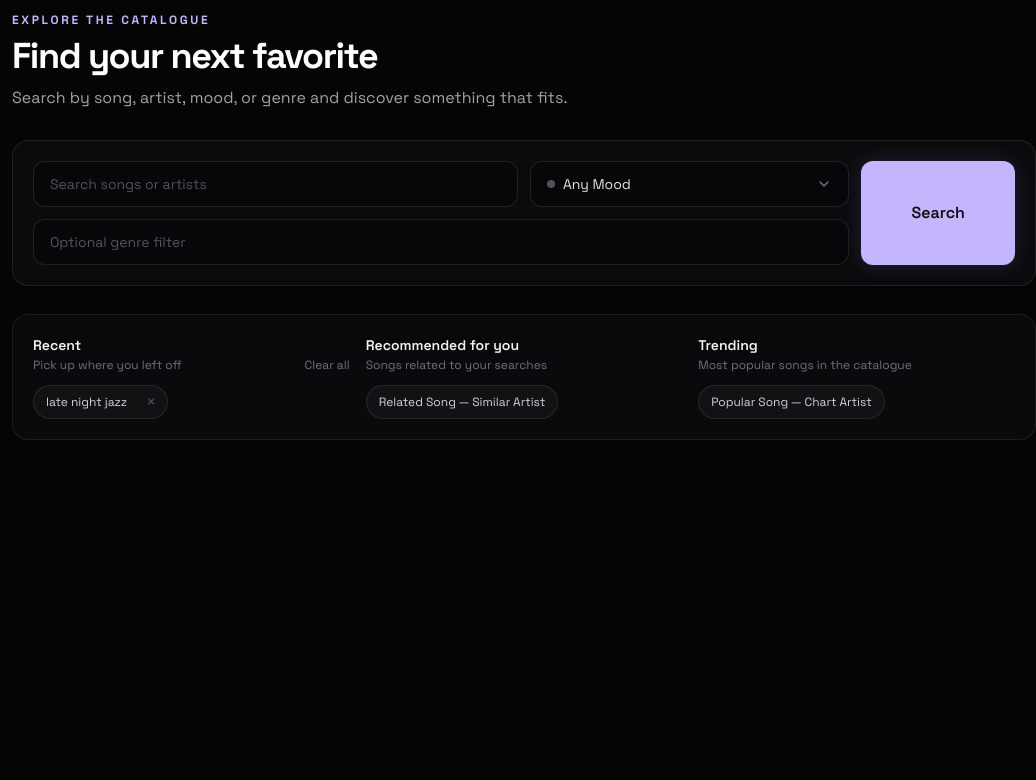
Scenario: shows related results automatically while typing
The width and height of the screenshot is (1036, 780).
In the field with placeholder "Search songs or artists": (276, 184) [33,161,518,207], type "Search Result"
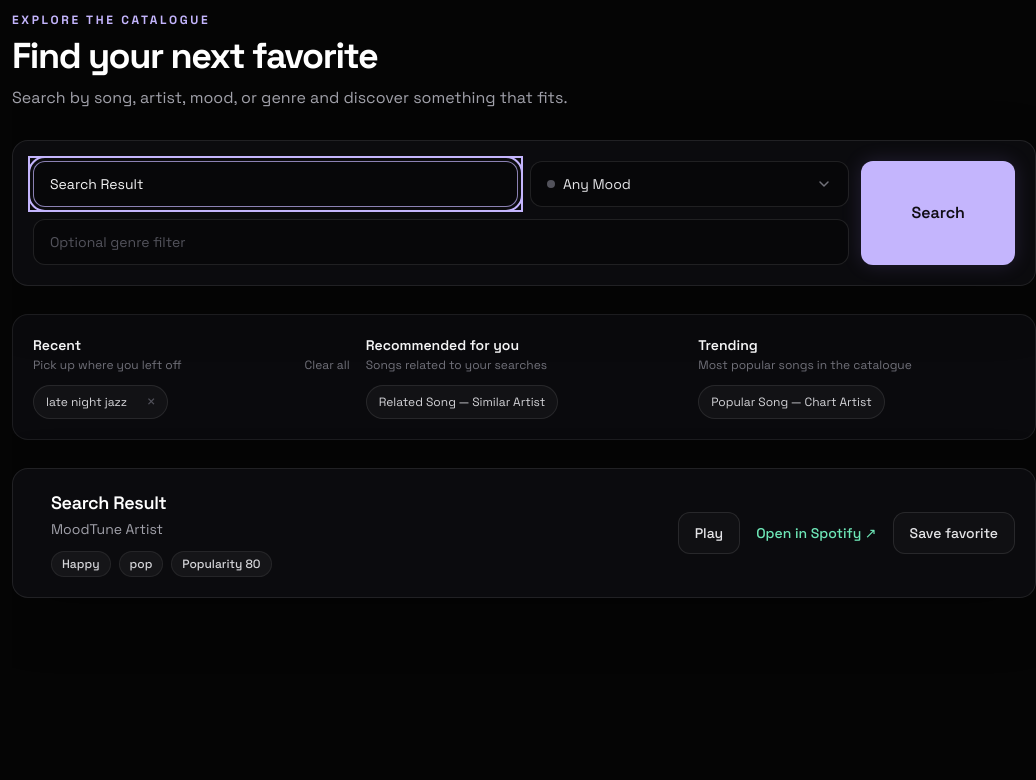
Expected: the element "Recommended for you" is shown, [366,336,558,419]
Expected: the heading "Search Result" is shown, [51,491,166,514]
